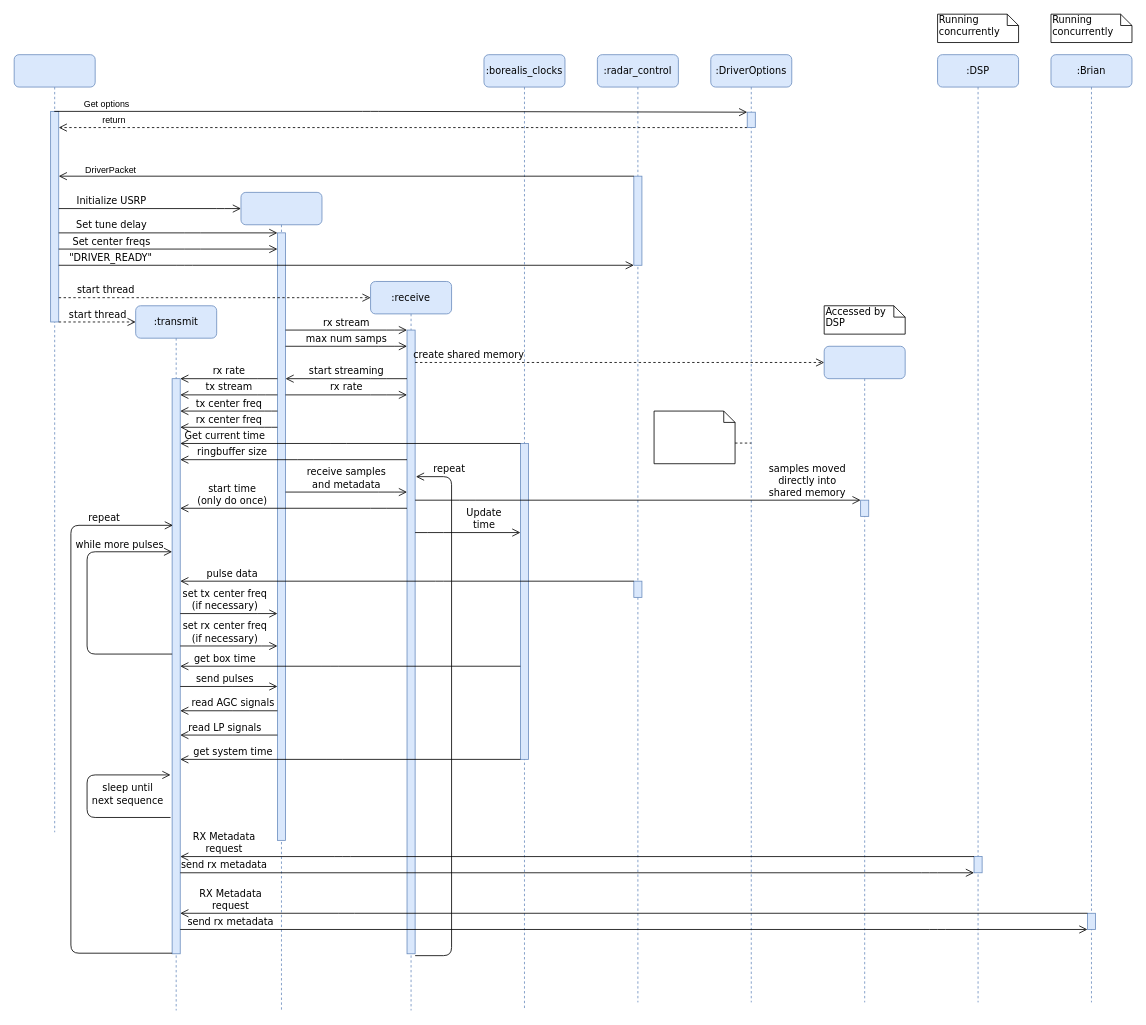
Image size: 1146x1025. Some labels were removed from this diagram. The box of each missing label's shape, as (x1, y1, x2, y2) in pixels:
:main: (13, 54, 95, 832)
:SharedMemory: (823, 345, 905, 1002)
:USRP: (240, 192, 322, 1010)
Multiple small requests by transmit and receive threads: (653, 410, 735, 464)
